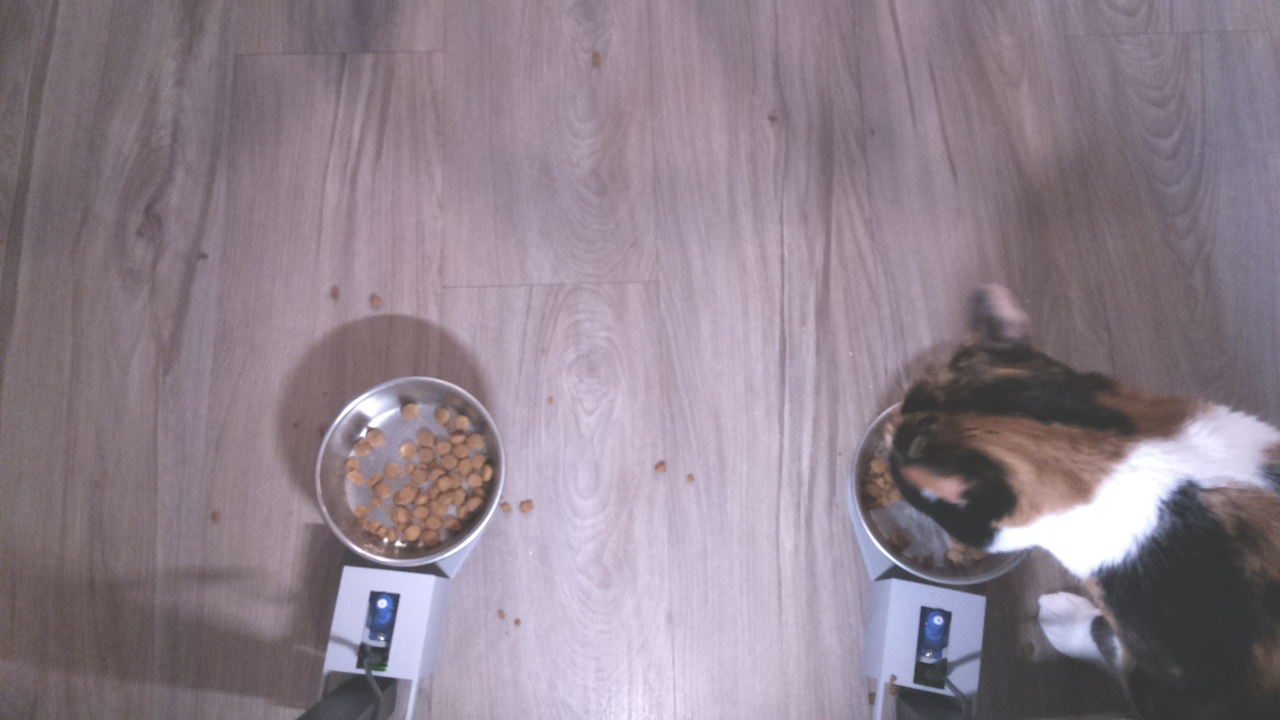bella_eating: (843, 279, 1139, 604)
open_bowl: (309, 372, 513, 570)
